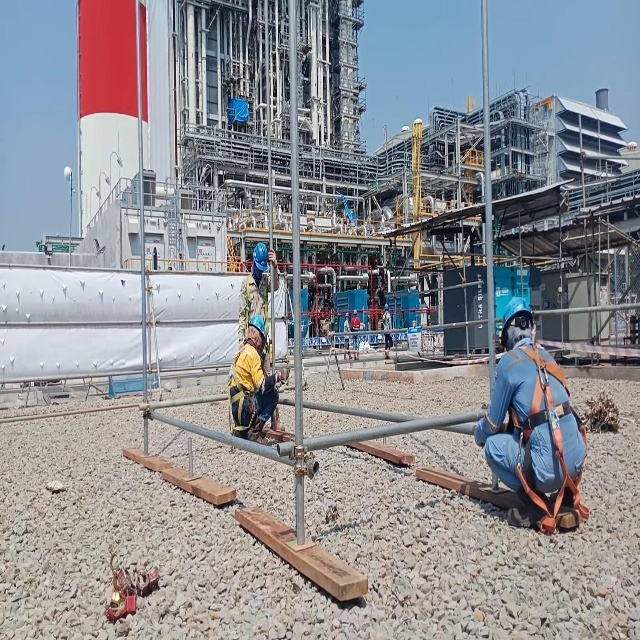Arnes_seguridad: (509, 338, 592, 538), (227, 348, 257, 436), (243, 270, 270, 340)
